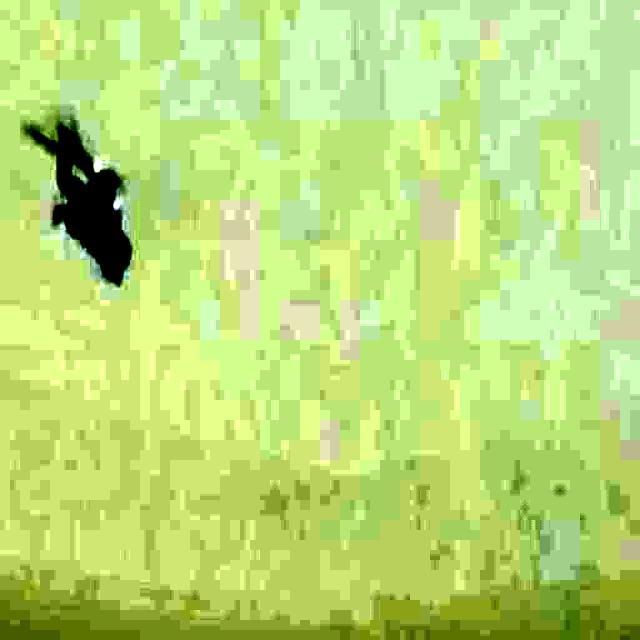drone: (38, 114, 135, 285)
